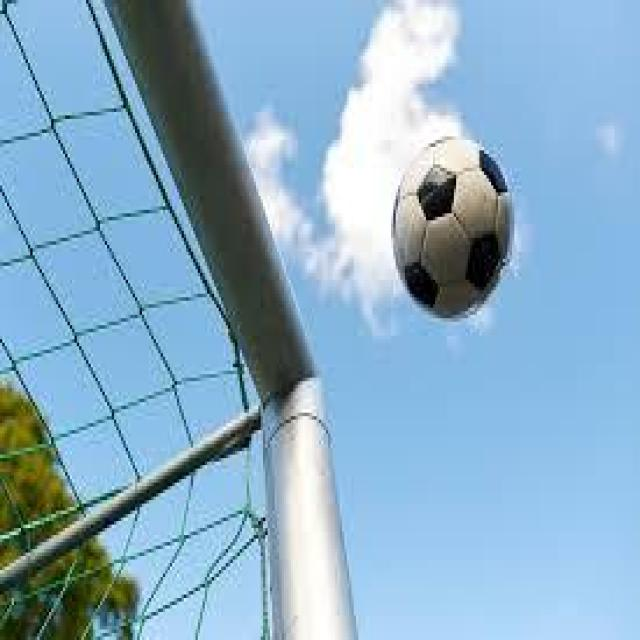Soccer Ball: (393, 136, 512, 318)
